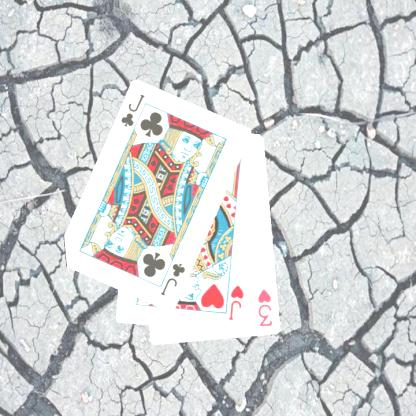3H: (255, 287, 274, 328)
JC: (118, 92, 147, 129), (158, 260, 186, 298)
JH: (226, 282, 245, 322)
